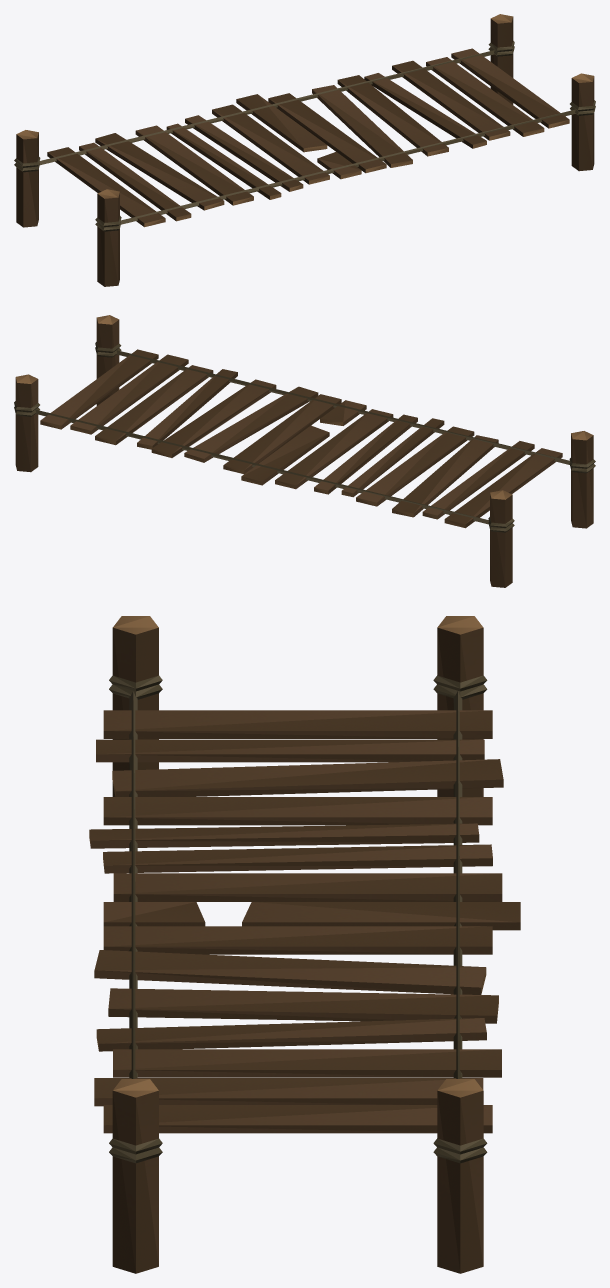
The model's file is Bridge_2_Lod0.fbx.
3 views of the same model, one above another, from view 1: azimuth 30°, elevation 25°; view 2: azimuth 150°, elevation 25°; view 3: azimuth 270°, elevation 25° (orthographic). The views are drawn at different scales.
Visible parts, largest first — view 1: polySurface602; view 2: polySurface602; view 3: polySurface602.
Part boxes in pixels (x1,y1,x2,y2): polySurface602: (14, 14, 595, 286); polySurface602: (14, 315, 595, 587); polySurface602: (89, 616, 520, 1273).
Bounding box in the file's own units: 1180 × 200 × 444.
1 material, 1 textured.
